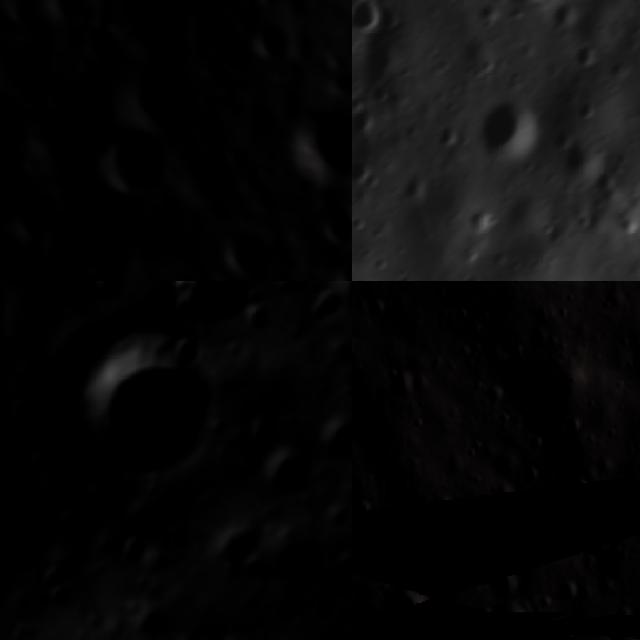crater: (49, 300, 238, 499), (92, 114, 175, 206), (168, 281, 275, 341), (282, 101, 352, 179), (471, 87, 544, 160), (195, 512, 267, 582), (261, 514, 326, 590), (133, 61, 204, 130), (255, 441, 318, 506), (28, 556, 85, 614), (377, 590, 441, 640), (223, 222, 274, 281), (188, 154, 234, 210), (113, 521, 160, 573), (242, 17, 294, 61), (6, 192, 53, 240), (558, 133, 606, 180), (75, 17, 120, 64), (581, 512, 618, 568), (41, 212, 84, 258), (362, 35, 404, 80), (315, 203, 352, 252), (319, 412, 352, 463), (322, 535, 352, 591), (480, 564, 525, 599), (571, 35, 607, 77), (0, 84, 25, 144), (486, 605, 528, 638), (386, 365, 421, 400), (352, 0, 386, 34), (561, 579, 584, 617), (628, 337, 640, 393), (45, 0, 82, 16), (352, 281, 371, 294)
